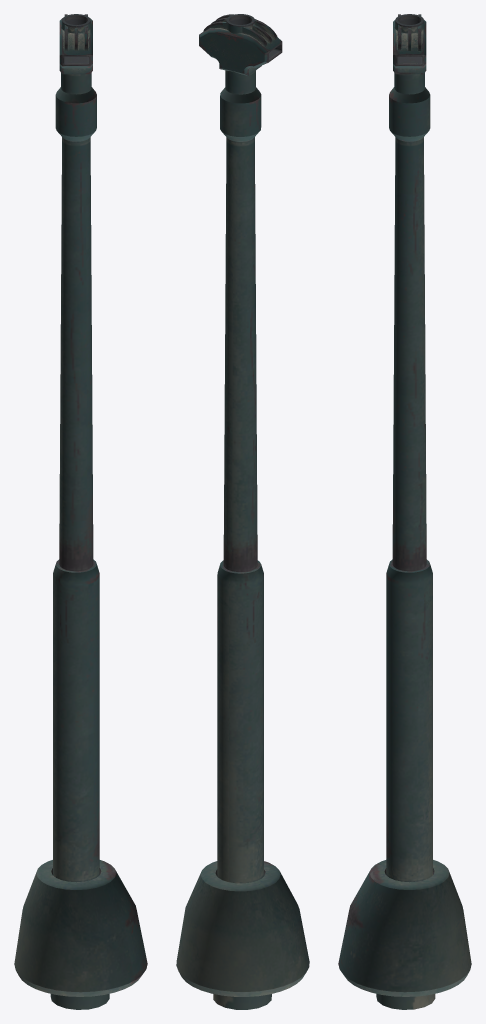
The model's file is Gun_01.glb.
The picture shows the model from 3 angles, left to right: view 1: azimuth 90°, elevation 25°; view 2: azimuth 150°, elevation 25°; view 3: azimuth 270°, elevation 25°; orthographic projection.
Visible parts, largest first — view 1: set_0_group_0; view 2: set_0_group_0; view 3: set_0_group_0.
Part boxes in pixels (x1,y1,x2,y2): set_0_group_0: (14, 14, 147, 1009); set_0_group_0: (176, 14, 309, 1009); set_0_group_0: (338, 14, 471, 1009).
Size of the model in its own units: 0.7684 by 6.22 by 0.7686.
Materials: 1 (1 with a texture image).
